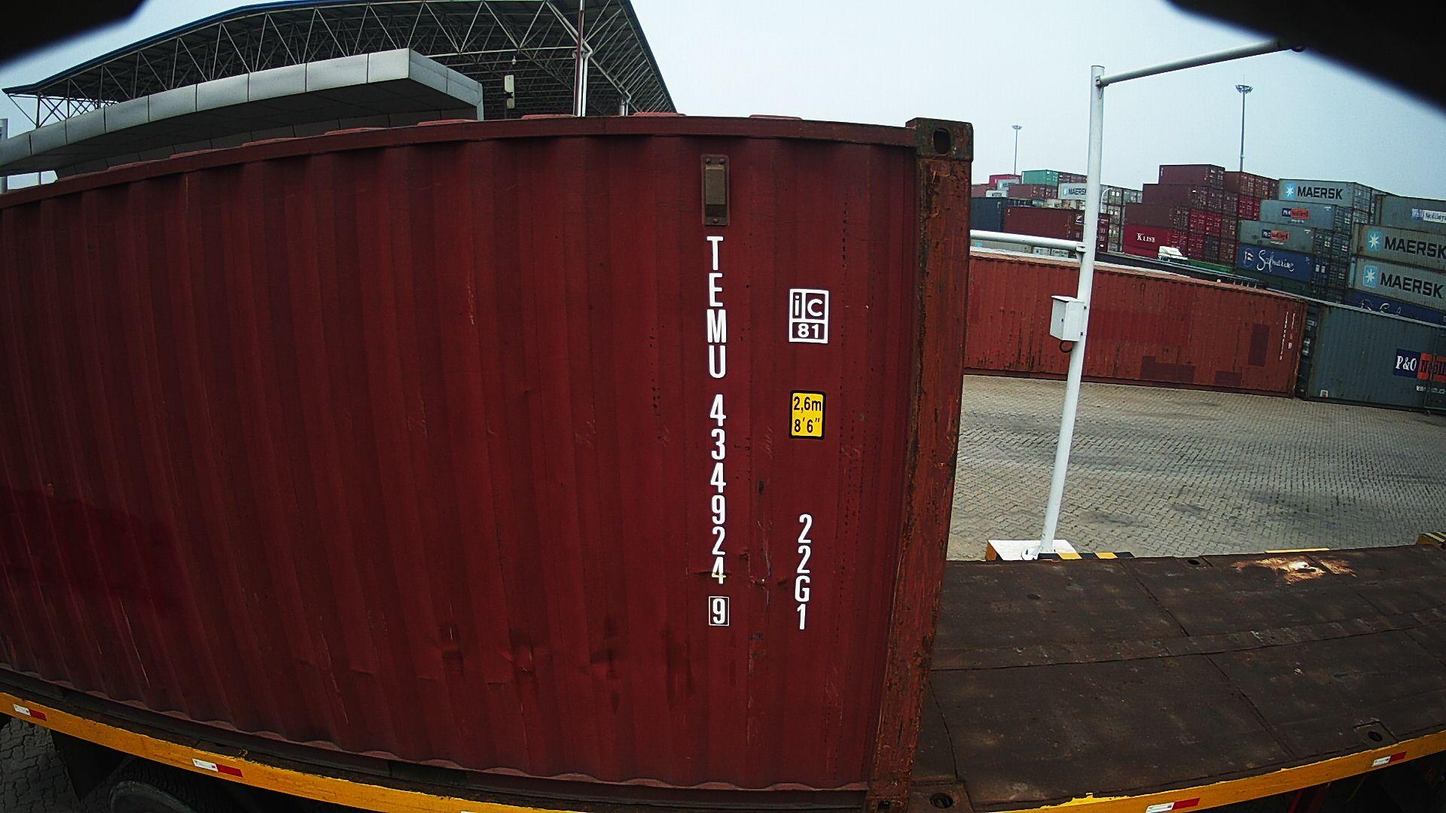container-numbers: (700, 231, 734, 632), (789, 510, 817, 635)
